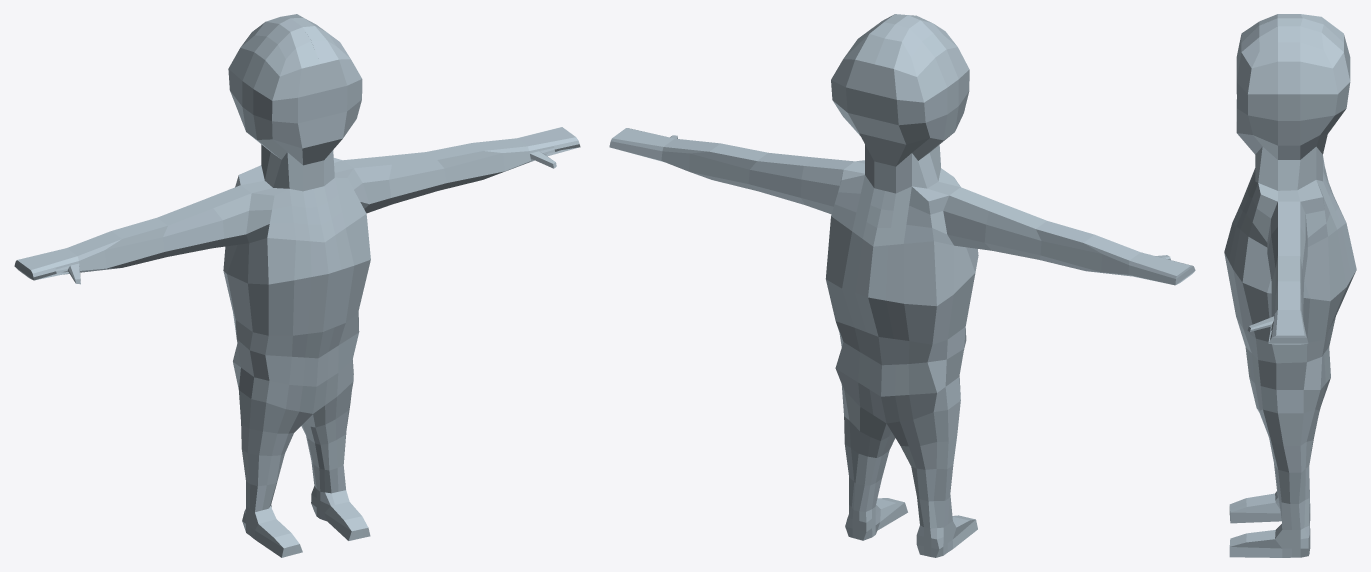
The model's file is Player.fbx.
3 renders of one model, left to right at view 1: azimuth 30°, elevation 25°; view 2: azimuth 150°, elevation 25°; view 3: azimuth 270°, elevation 25°, orthographic. The views are drawn at different scales.
Visible parts, largest first — view 1: Cube; view 2: Cube; view 3: Cube.
Boxes of the visible parts, x1,y1,x2,y2 form: Cube: [14, 14, 580, 557]; Cube: [609, 14, 1195, 557]; Cube: [1224, 14, 1356, 557].
Size of the model in its own units: 840 by 738 by 171.
